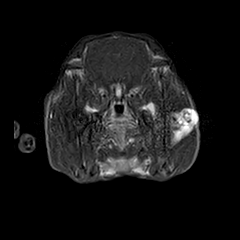Brain: (68, 8, 167, 106)
